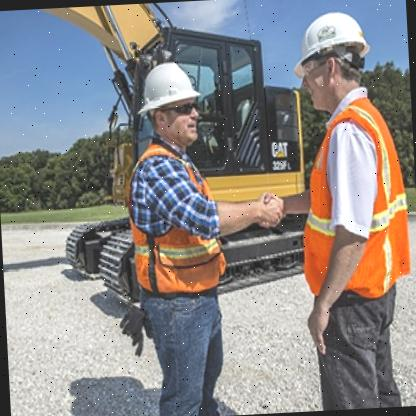capacete: (292, 10, 372, 107), (134, 58, 203, 144)
colete_refletivo: (286, 92, 415, 302), (121, 141, 231, 298)
